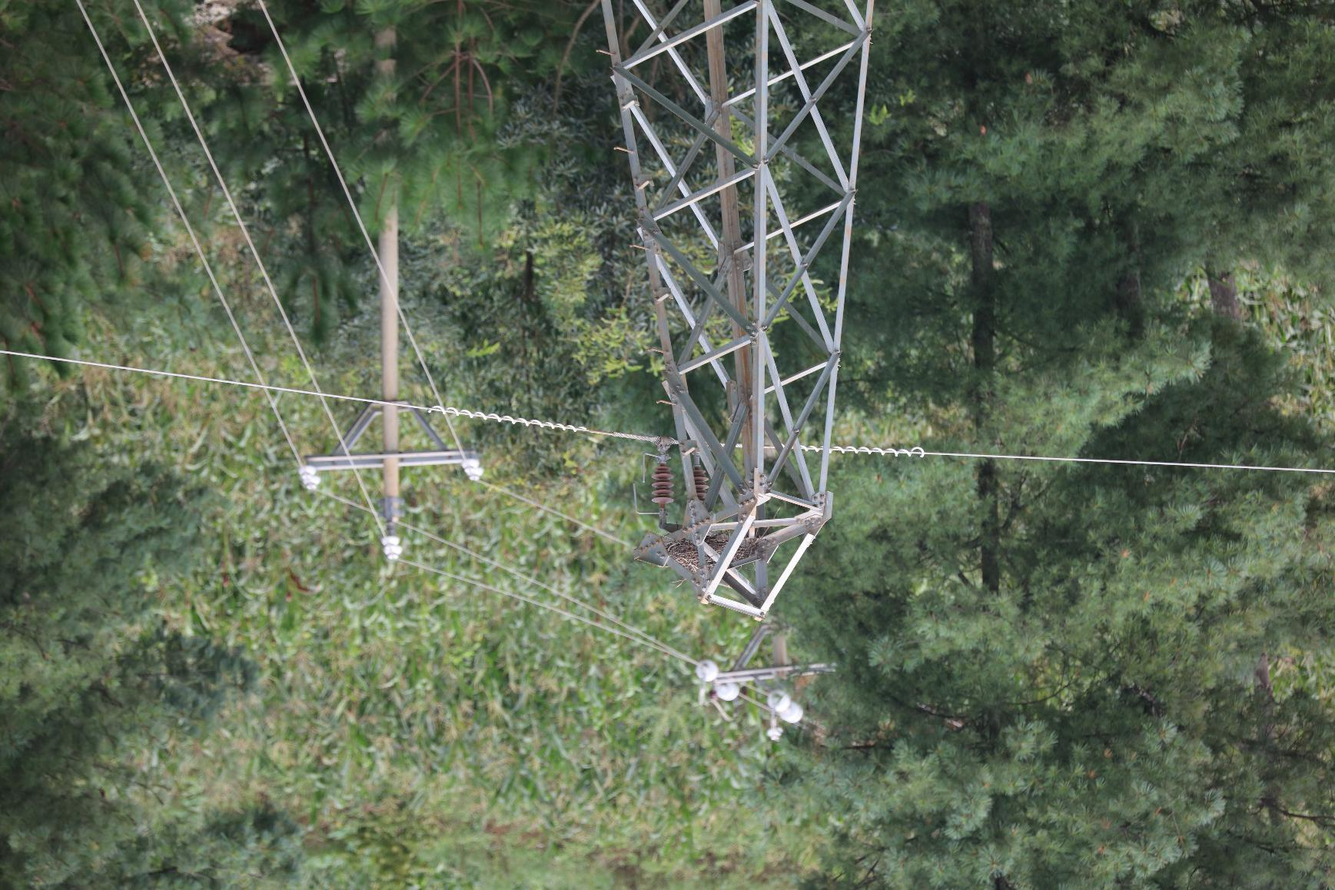nest: (666, 530, 760, 573)
